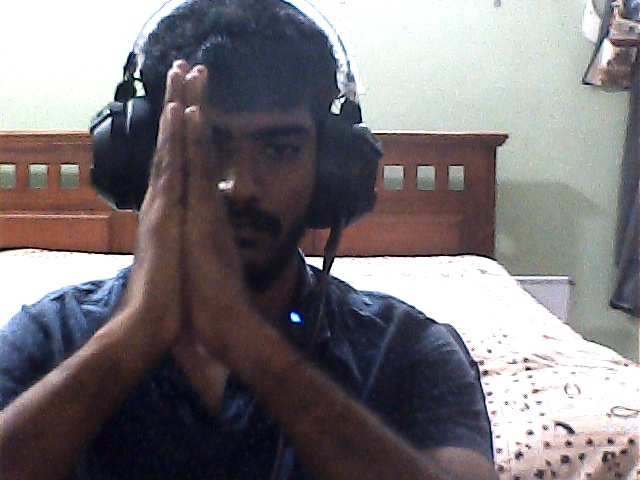Sign: (125, 66, 243, 354)
